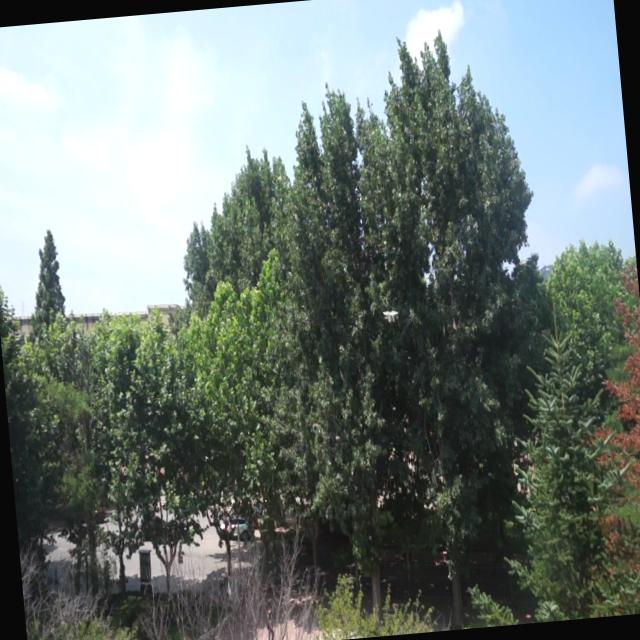drone: (380, 303, 400, 328)
